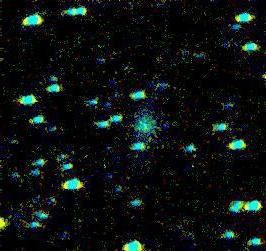star: (0, 207, 19, 237)
